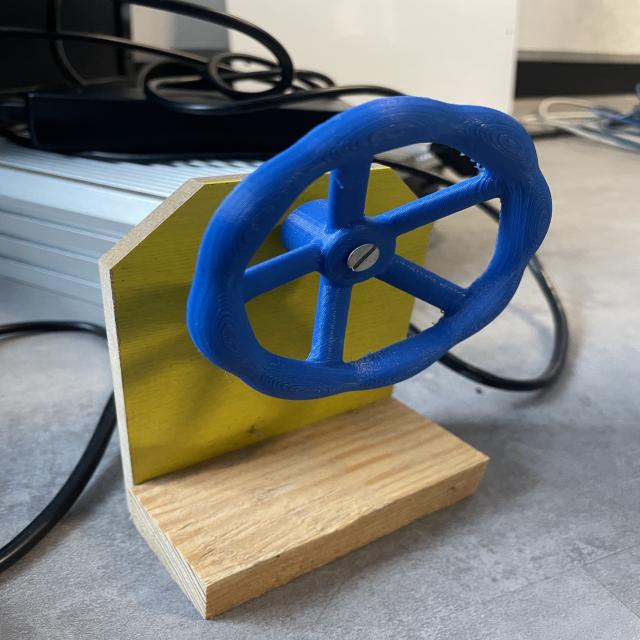Wheel Handle Valve Threaded: (183, 94, 559, 401)
